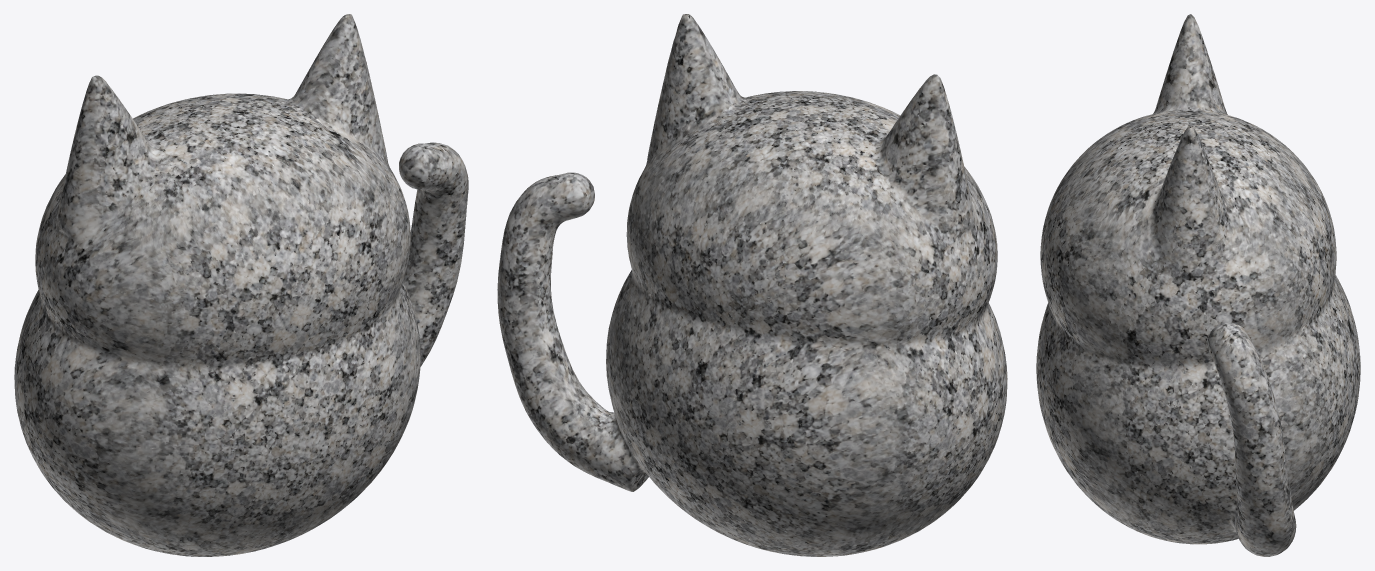
File: cat-junior-granite.glb
3 renders of one model, left to right at view 1: azimuth 30°, elevation 25°; view 2: azimuth 150°, elevation 25°; view 3: azimuth 270°, elevation 25°, orthographic. The views are drawn at different scales.
Parts seen in each view (by area): view 1: cat-junior-granite; view 2: cat-junior-granite; view 3: cat-junior-granite.
Part boxes in pixels (<box>): cat-junior-granite: <box>14,14,468,556</box>; cat-junior-granite: <box>497,14,1007,556</box>; cat-junior-granite: <box>1036,14,1360,556</box>.
Size of the model in its own units: 0.0241 by 0.0247 by 0.0162.
1 material, 1 textured.
